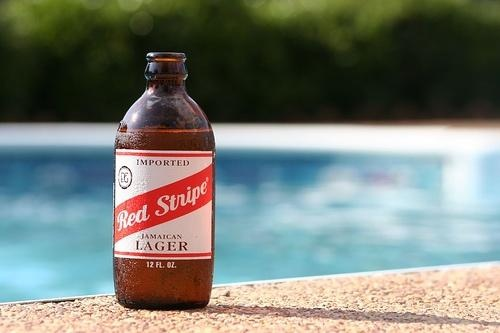bottle: (112, 51, 217, 313)
